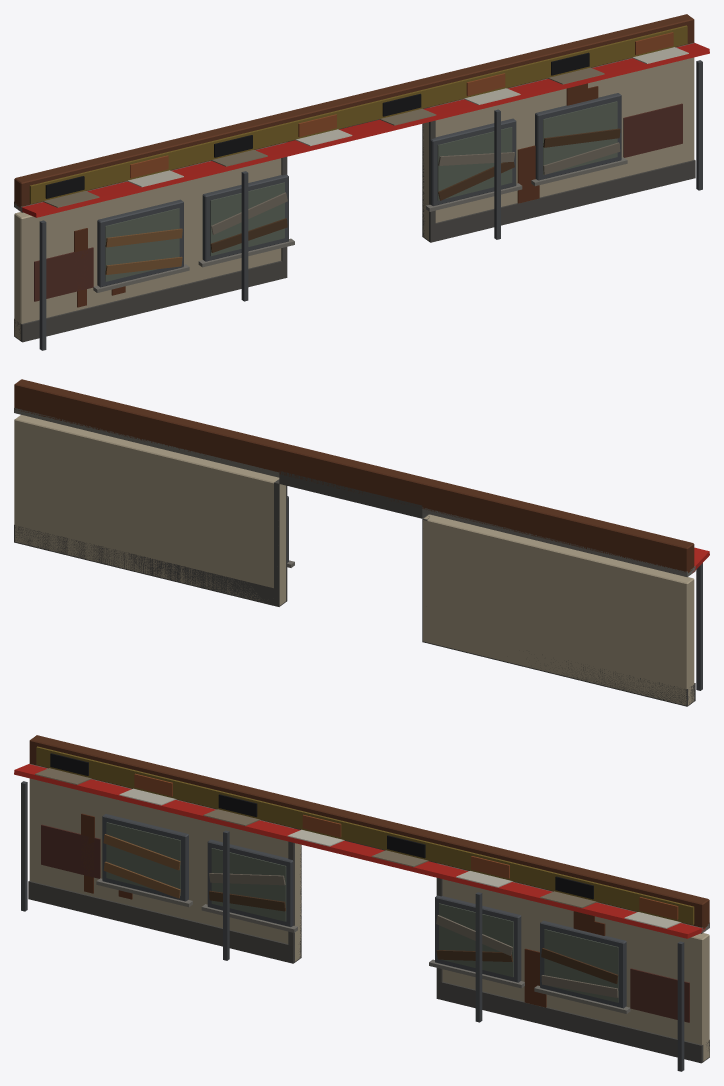
Rendered from lmk_fuel_shop.fbx.
The picture shows the model from 3 angles, top to bottom: view 1: azimuth 30°, elevation 25°; view 2: azimuth 150°, elevation 25°; view 3: azimuth 330°, elevation 25°; orthographic projection.
Parts seen in each view (by area): view 1: lmk_fuel_shop; view 2: lmk_fuel_shop; view 3: lmk_fuel_shop.
Boxes of the visible parts, bbox=[...] form: lmk_fuel_shop: bbox=[14, 14, 709, 350]; lmk_fuel_shop: bbox=[14, 379, 709, 706]; lmk_fuel_shop: bbox=[14, 735, 709, 1071].
Bounding box in the file's own units: 16 × 3.6 × 0.9309.
